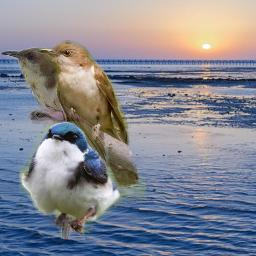Cuckoo: (0, 46, 106, 239), (36, 40, 139, 189)
Swallow: (19, 121, 147, 233)
